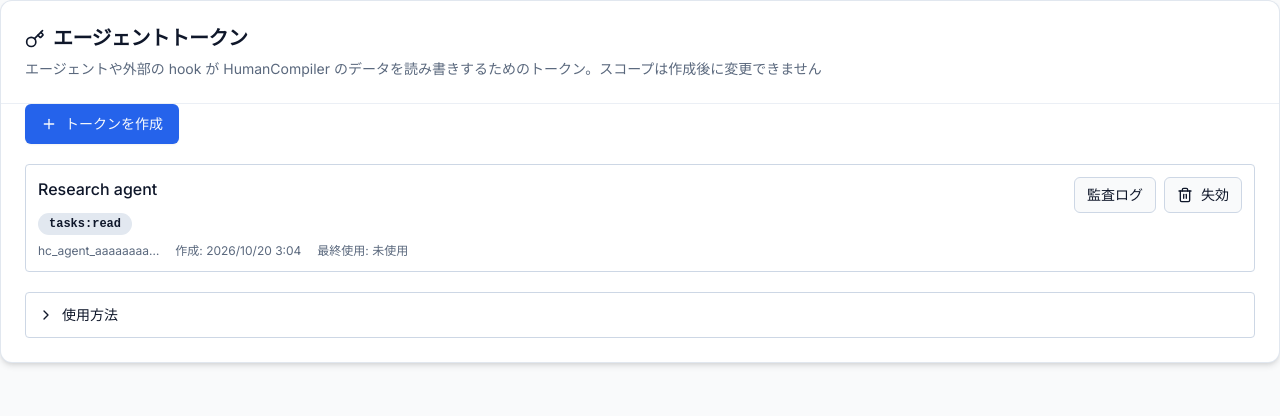
Test: AgentTokensCard › expands the audit log of a token
The image size is (1280, 416).
Expected: the heading "Research agent" is shown, left=38, top=178, right=157, bottom=198
Click the button with aria-label "Research agent の監査ログ".
click(1115, 194)  # box left=1074, top=176, right=1156, bottom=212
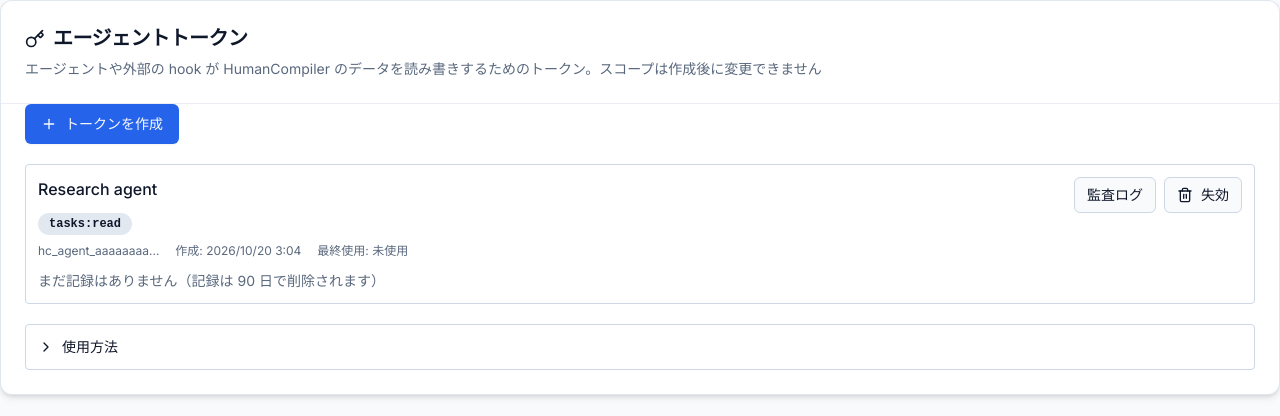
Expected: the text "まだ記録はありません（記録は 90 日で削除されます）" is shown, left=38, top=272, right=385, bottom=288
Click the button with aria-label "Research agent の監査ログ".
click(1115, 194)  # box left=1074, top=176, right=1156, bottom=212
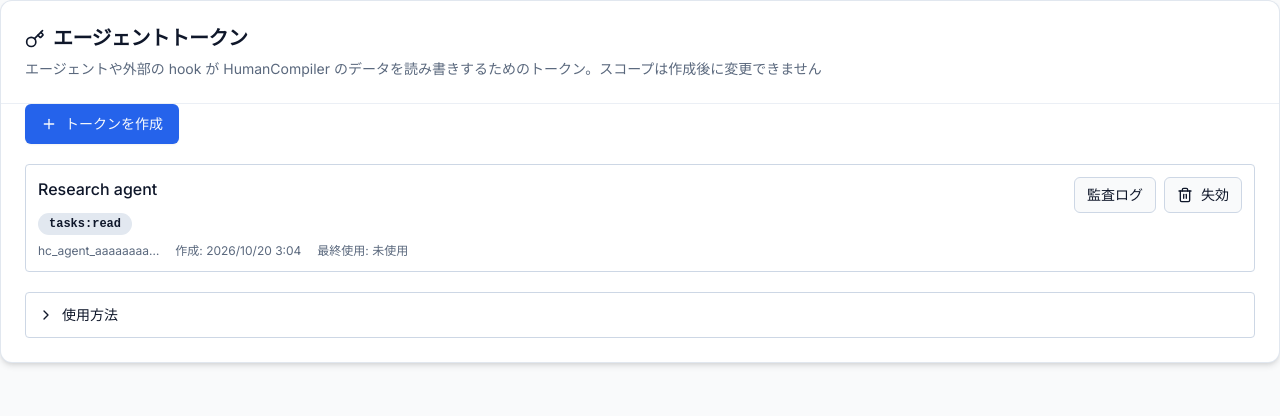
Expected: the text "まだ記録はありません（記録は 90 日で削除されます）" is gone
